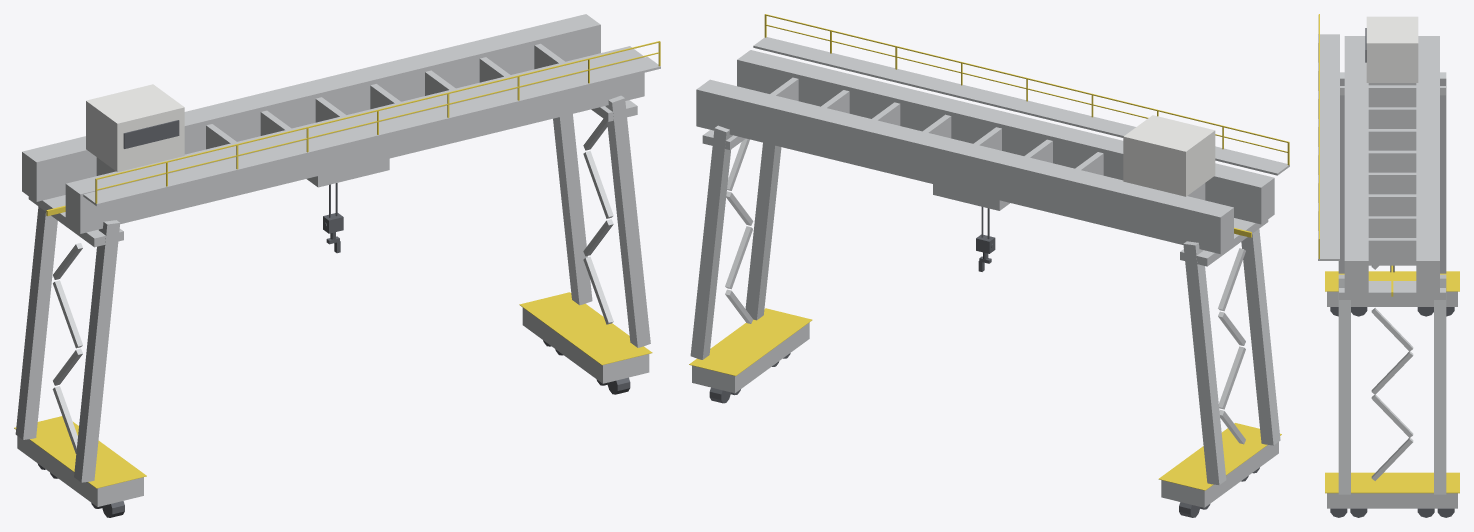
Rendered from shipyard-and-dry-dock-shipyard-and-dry-dock-dock-gantr-1e428ef8__37932.glb.
3 renders of one model, left to right at view 1: azimuth 30°, elevation 25°; view 2: azimuth 150°, elevation 25°; view 3: azimuth 270°, elevation 25°, orthographic. The views are drawn at different scales.
Visible parts, largest first — view 1: shipyard-and-dry-dock-dock-gantry-crane, crane-trolley; view 2: shipyard-and-dry-dock-dock-gantry-crane, crane-trolley; view 3: shipyard-and-dry-dock-dock-gantry-crane.
Boxes of the visible parts, box(x1,y1,x2,y2) form: shipyard-and-dry-dock-dock-gantry-crane: box(14, 14, 660, 517); crane-trolley: box(307, 158, 389, 187); shipyard-and-dry-dock-dock-gantry-crane: box(689, 14, 1289, 517); crane-trolley: box(933, 184, 1009, 210); shipyard-and-dry-dock-dock-gantry-crane: box(1318, 14, 1459, 517).
Size of the model in its own units: 27.2 by 17 by 7.15.
